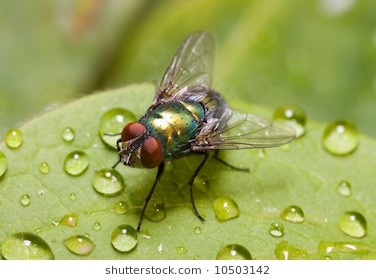green bottles fly: (101, 27, 302, 249)
